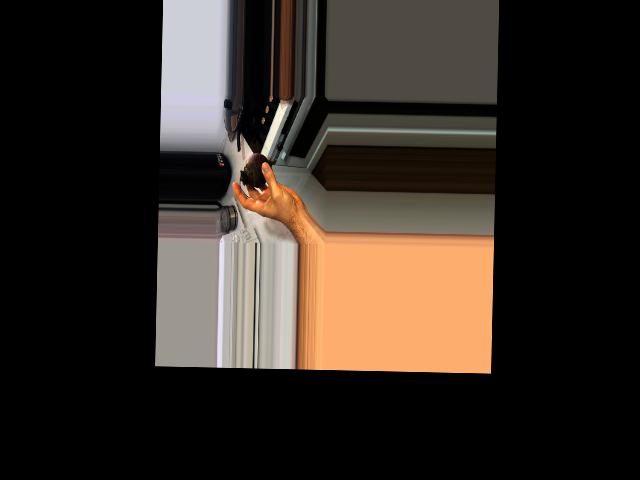beet: (239, 152, 277, 197)
